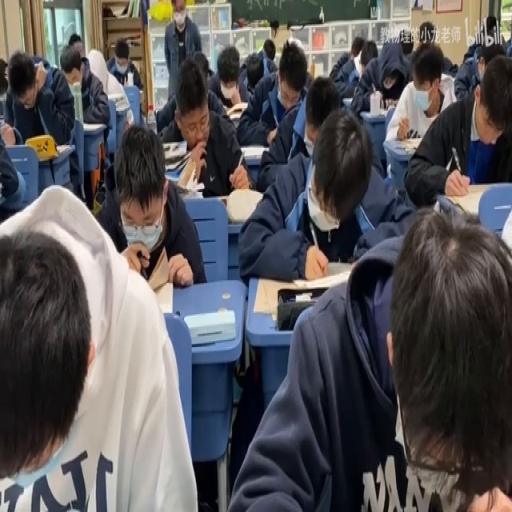calculator: (252, 270, 350, 317), (446, 182, 508, 220), (184, 307, 234, 346), (224, 186, 262, 225), (152, 278, 174, 314), (160, 138, 186, 162), (392, 135, 422, 152), (107, 91, 130, 112), (238, 145, 268, 161), (324, 260, 354, 276), (174, 184, 204, 199), (224, 101, 247, 119), (82, 119, 104, 131), (360, 110, 386, 120), (164, 168, 182, 180), (55, 144, 71, 155), (218, 194, 228, 210), (342, 94, 354, 107)
paper: (233, 198, 506, 509), (96, 116, 210, 510), (1, 229, 93, 481), (404, 53, 510, 206), (157, 55, 250, 195), (4, 47, 78, 200), (237, 37, 308, 155), (302, 74, 339, 146), (329, 36, 367, 96), (106, 37, 144, 91), (454, 52, 479, 96), (155, 90, 178, 134), (476, 43, 502, 75), (245, 54, 264, 90), (436, 74, 455, 108), (358, 38, 377, 70), (192, 50, 210, 82), (0, 125, 22, 147), (381, 77, 400, 102), (417, 21, 435, 47), (262, 38, 276, 62), (398, 28, 412, 52), (486, 14, 498, 38), (0, 60, 8, 96), (441, 55, 454, 74), (67, 33, 81, 47), (288, 34, 302, 48), (32, 54, 46, 68), (501, 31, 510, 51), (462, 47, 474, 61), (350, 47, 361, 61)
